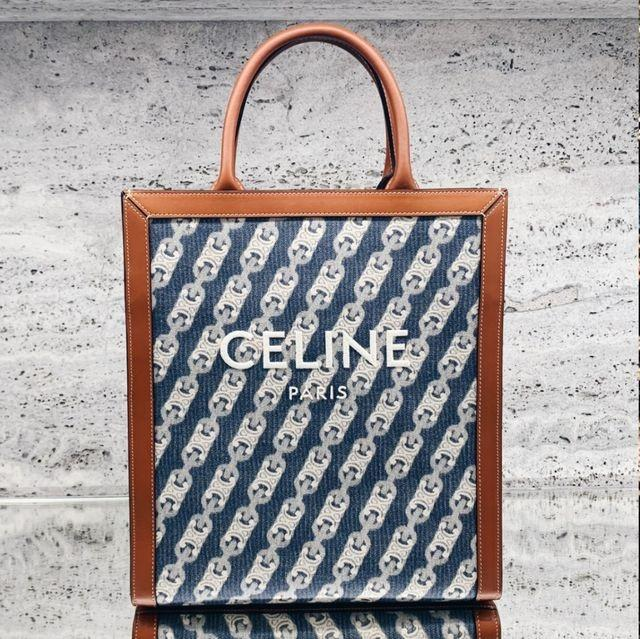CELINE: (220, 329, 412, 368)
